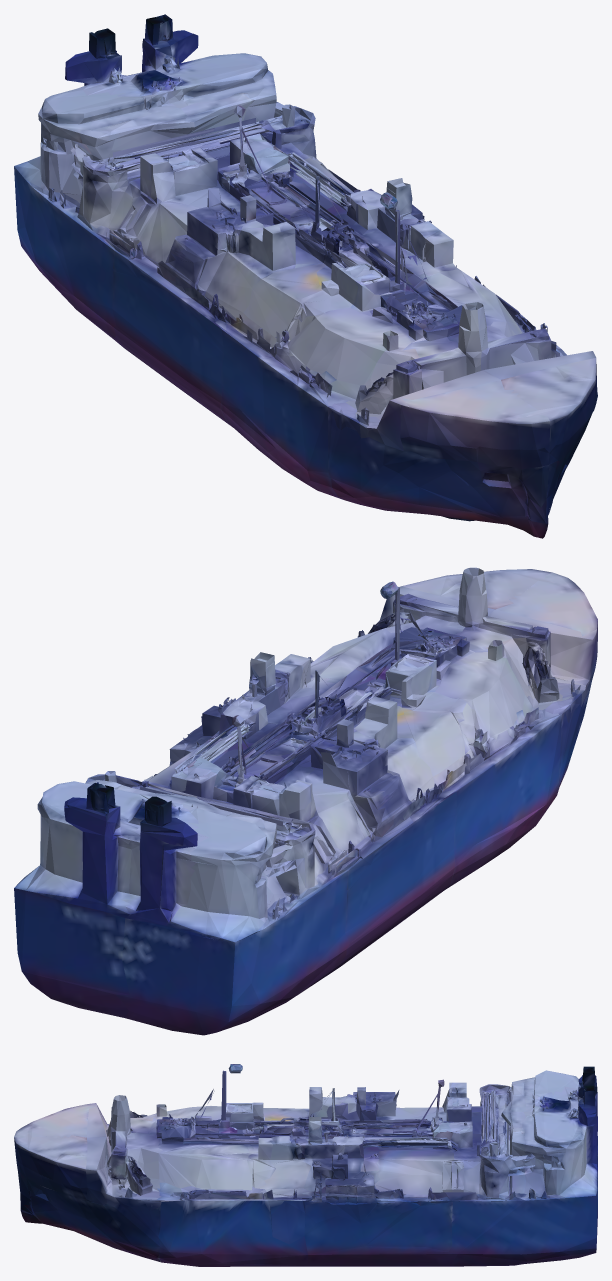
Rendered from transport-07.glb.
3 views of the same model, one above another, from view 1: azimuth 30°, elevation 25°; view 2: azimuth 150°, elevation 25°; view 3: azimuth 270°, elevation 25° (orthographic). The views are drawn at different scales.
Parts seen in each view (by area): view 1: tmpjjrjts5s.obj; view 2: tmpjjrjts5s.obj; view 3: tmpjjrjts5s.obj.
Boxes of the visible parts, <box> form: tmpjjrjts5s.obj: <box>14,14,597,538</box>; tmpjjrjts5s.obj: <box>14,567,597,1035</box>; tmpjjrjts5s.obj: <box>14,1064,597,1266</box>.
Size of the model in its own units: 0.5963 by 0.6086 by 1.83.
Materials: 1 (1 with a texture image).
